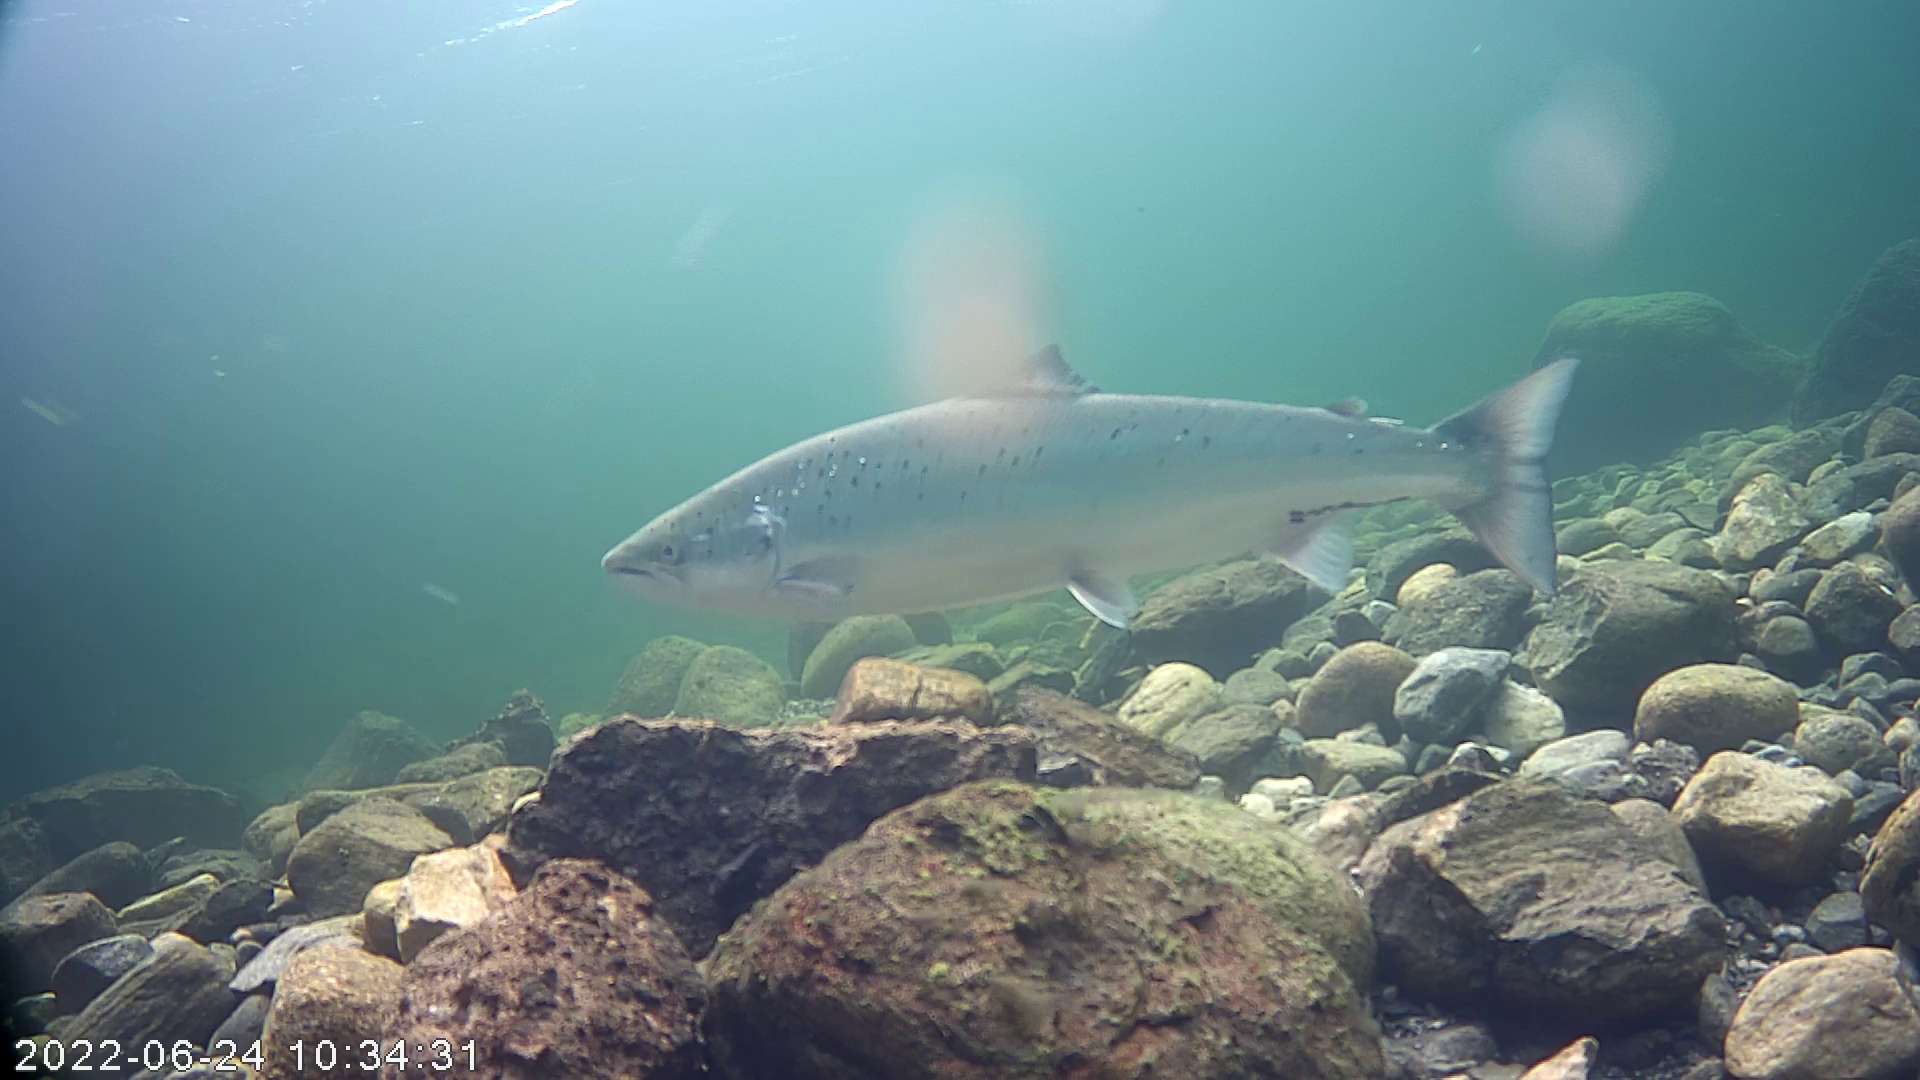salmon: (596, 339, 1580, 632)
